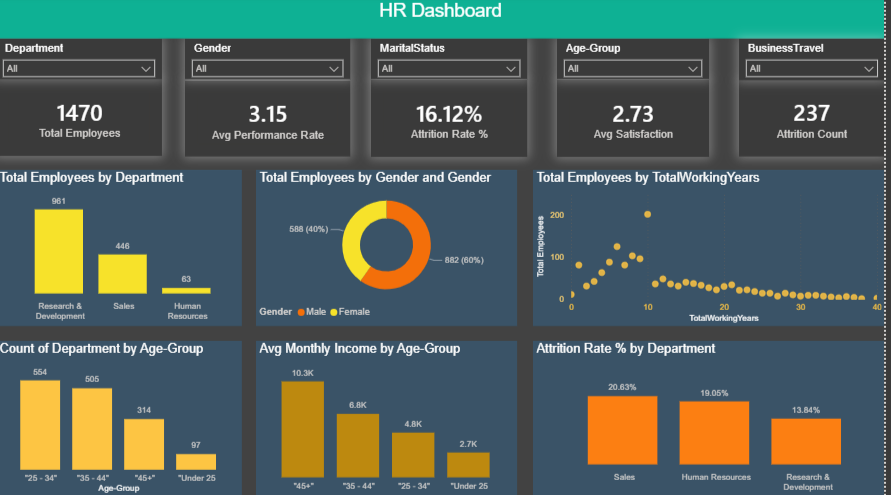

This screenshot's page, from the dashboard's own definition file:
{"tool":"powerbi","page":{"name":"HR Dashboard","canvas":[1280,720],"ordinal":0},"visuals":[{"type":"cardVisual","fields":{"Data":["_Measures.Total Employees"]},"box":[0,118.1,239,110.9],"z":0,"group":"g1"},{"type":"columnChart","fields":{"Category":["WA_Fn-UseC_-HR-Employee-Attrition.Department"],"Y":["_Measures.Total Employees"]},"box":[0,248.6,354.4,225.1],"z":0},{"type":"cardVisual","fields":{"Data":["_Measures.Avg Performance Rate","_Measures.Avg Performance Rate"]},"box":[272.2,120.3,237.6,109.4],"z":1000,"group":"g1"},{"type":"donutChart","fields":{"Category":["WA_Fn-UseC_-HR-Employee-Attrition.Gender"],"Series":["WA_Fn-UseC_-HR-Employee-Attrition.Gender"],"Y":["_Measures.Total Employees"]},"box":[374.4,249.1,375.8,224.6],"z":1000},{"type":"cardVisual","fields":{"Data":["_Measures.Attrition Rate %"]},"box":[540,119,224.6,110.9],"z":2000,"group":"g1"},{"type":"scatterChart","fields":{"X":["WA_Fn-UseC_-HR-Employee-Attrition.TotalWorkingYears"],"Y":["_Measures.Total Employees"]},"box":[772.7,248.6,507.3,225.1],"z":2000},{"type":"cardVisual","fields":{"Data":["_Measures.Avg Satisfaction","_Measures.Avg Satisfaction"]},"box":[807.8,119,218.9,110.9],"z":3000,"group":"g1"},{"type":"clusteredColumnChart","fields":{"Y":["CountNonNull(WA_Fn-UseC_-HR-Employee-Attrition.Department)"],"Category":["WA_Fn-UseC_-HR-Employee-Attrition.Age-Group"]},"box":[0,495.4,354.2,224.6],"z":3000},{"type":"cardVisual","fields":{"Data":["_Measures.Attrition Count","_Measures.Attrition Count"]},"box":[1069.9,120.3,210.2,109.4],"z":4000,"group":"g1"},{"type":"clusteredColumnChart","fields":{"Category":["WA_Fn-UseC_-HR-Employee-Attrition.Age-Group"],"Y":["_Measures.Avg Monthly Income"]},"box":[374.4,495.4,375.8,224.6],"z":4000},{"type":"clusteredColumnChart","fields":{"Category":["WA_Fn-UseC_-HR-Employee-Attrition.Department"],"Y":["_Measures.Attrition Rate %"]},"box":[773,495,507,225],"z":5000},{"type":"group","id":"g1","title":"Group 1","box":[0,118.1,1280.2,112.3],"z":6000},{"type":"slicer","fields":{"Values":["WA_Fn-UseC_-HR-Employee-Attrition.Department"]},"box":[0,60.5,239,57.6],"z":6001},{"type":"slicer","fields":{"Values":["WA_Fn-UseC_-HR-Employee-Attrition.Gender"]},"box":[272.2,60.5,237.6,57.6],"z":6002},{"type":"slicer","fields":{"Values":["WA_Fn-UseC_-HR-Employee-Attrition.MaritalStatus"]},"box":[540,60.5,224.6,57.6],"z":6003},{"type":"slicer","fields":{"Values":["WA_Fn-UseC_-HR-Employee-Attrition.Age-Group"]},"box":[807.8,60.5,218.9,57.6],"z":6004},{"type":"textbox","box":[0,0,1280.2,60.5],"z":6005},{"type":"slicer","fields":{"Values":["WA_Fn-UseC_-HR-Employee-Attrition.BusinessTravel"]},"box":[1069.9,60.5,210.2,60.5],"z":6006}]}

Visuals, with their boxes in screenshot pixels (x1, y1, x2, y2), scaled from the page's 1280x720 canvas onto the 891x495 screenshot:
cardVisual - _Measures.Total Employees: pyautogui.locateOnScreen(0, 81, 166, 157)
columnChart - WA_Fn-UseC_-HR-Employee-Attrition.Department x _Measures.Total Employees: pyautogui.locateOnScreen(0, 171, 247, 326)
cardVisual - _Measures.Avg Performance Rate x _Measures.Avg Performance Rate: pyautogui.locateOnScreen(189, 83, 355, 158)
donutChart - WA_Fn-UseC_-HR-Employee-Attrition.Gender x WA_Fn-UseC_-HR-Employee-Attrition.Gender: pyautogui.locateOnScreen(261, 171, 522, 326)
cardVisual - _Measures.Attrition Rate %: pyautogui.locateOnScreen(376, 82, 532, 158)
scatterChart - WA_Fn-UseC_-HR-Employee-Attrition.TotalWorkingYears x _Measures.Total Employees: pyautogui.locateOnScreen(538, 171, 890, 326)
cardVisual - _Measures.Avg Satisfaction x _Measures.Avg Satisfaction: pyautogui.locateOnScreen(562, 82, 715, 158)
clusteredColumnChart - CountNonNull(WA_Fn-UseC_-HR-Employee-Attrition.Department) x WA_Fn-UseC_-HR-Employee-Attrition.Age-Group: pyautogui.locateOnScreen(0, 341, 247, 494)
cardVisual - _Measures.Attrition Count x _Measures.Attrition Count: pyautogui.locateOnScreen(745, 83, 890, 158)
clusteredColumnChart - WA_Fn-UseC_-HR-Employee-Attrition.Age-Group x _Measures.Avg Monthly Income: pyautogui.locateOnScreen(261, 341, 522, 494)
clusteredColumnChart - WA_Fn-UseC_-HR-Employee-Attrition.Department x _Measures.Attrition Rate %: pyautogui.locateOnScreen(538, 340, 890, 494)
"Group 1" group: pyautogui.locateOnScreen(0, 81, 890, 158)
slicer - WA_Fn-UseC_-HR-Employee-Attrition.Department: pyautogui.locateOnScreen(0, 42, 166, 81)
slicer - WA_Fn-UseC_-HR-Employee-Attrition.Gender: pyautogui.locateOnScreen(189, 42, 355, 81)
slicer - WA_Fn-UseC_-HR-Employee-Attrition.MaritalStatus: pyautogui.locateOnScreen(376, 42, 532, 81)
slicer - WA_Fn-UseC_-HR-Employee-Attrition.Age-Group: pyautogui.locateOnScreen(562, 42, 715, 81)
textbox: pyautogui.locateOnScreen(0, 0, 890, 42)
slicer - WA_Fn-UseC_-HR-Employee-Attrition.BusinessTravel: pyautogui.locateOnScreen(745, 42, 890, 83)
